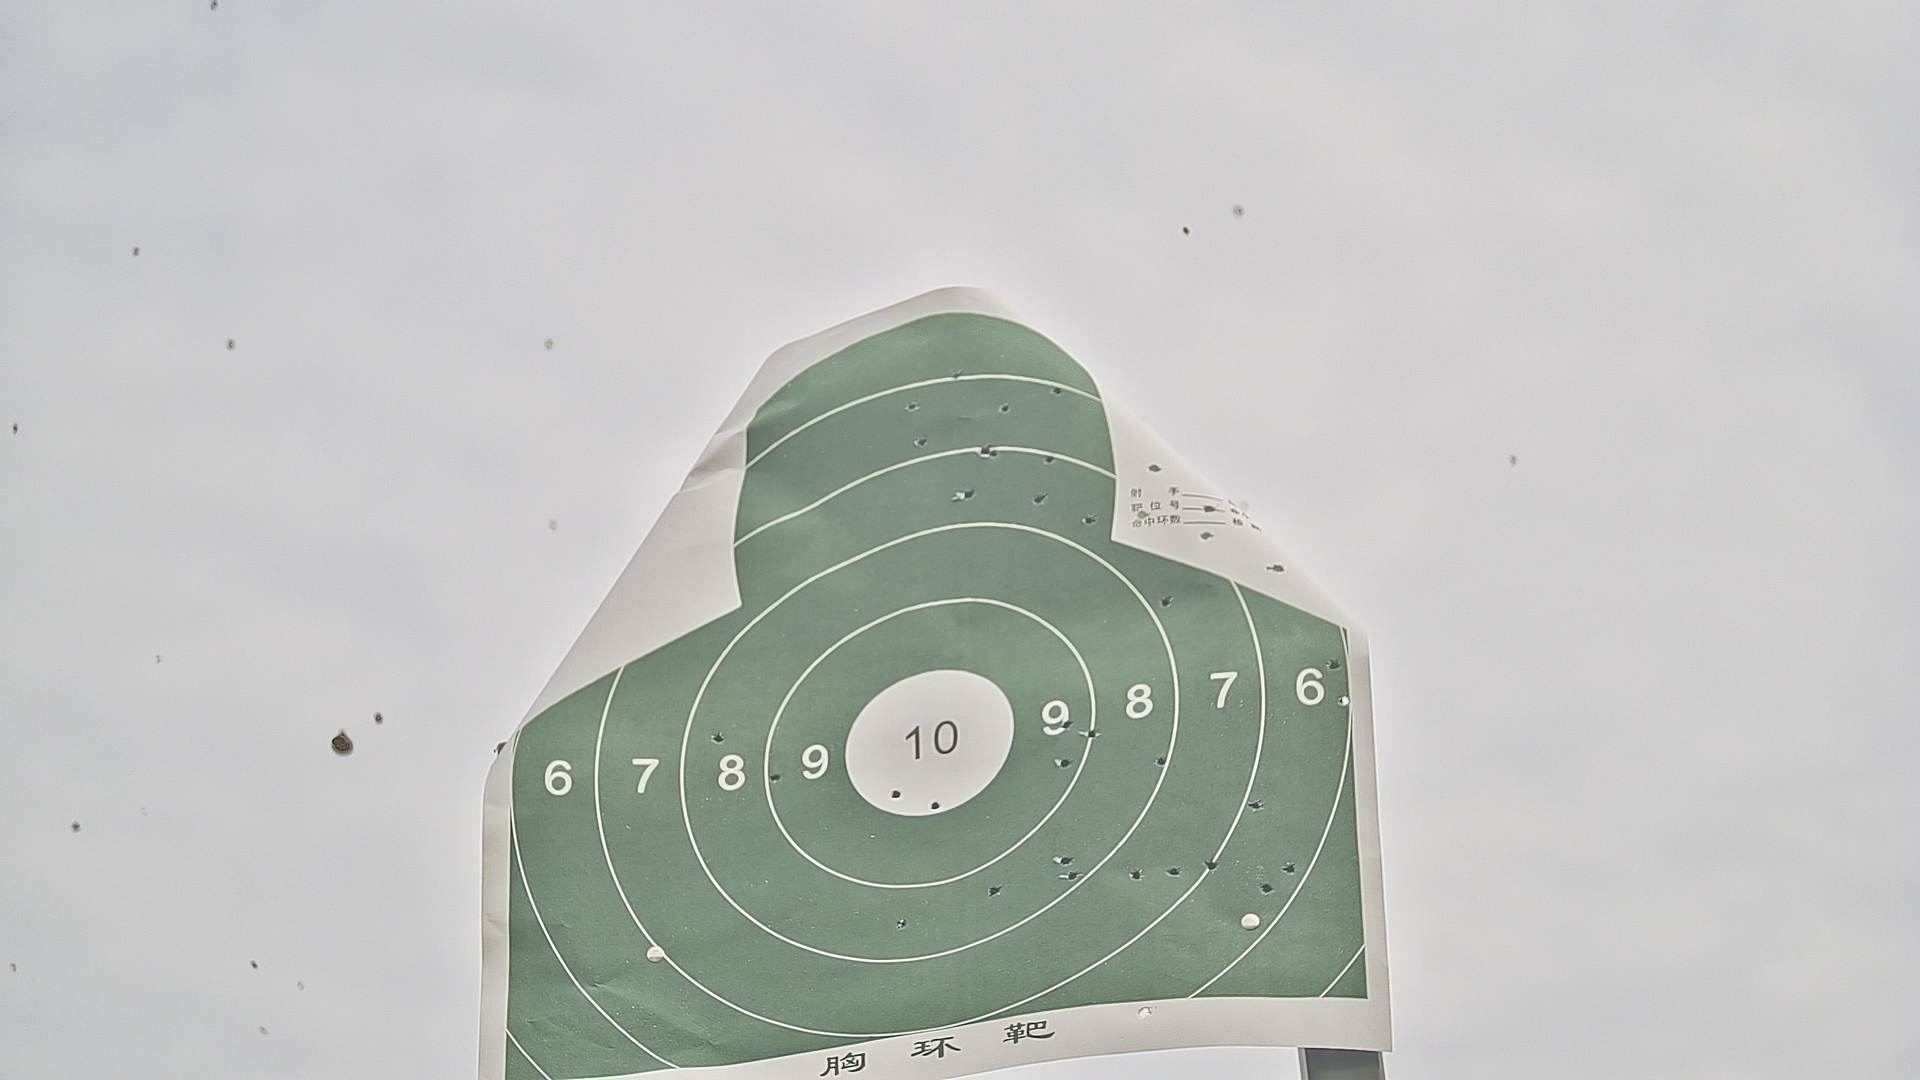hole: (1266, 563, 1284, 575), (986, 446, 1000, 460), (1327, 658, 1341, 671), (1138, 1004, 1154, 1015), (1284, 862, 1298, 876), (963, 488, 977, 500), (767, 771, 781, 783), (711, 732, 724, 744), (1147, 462, 1160, 473), (916, 436, 928, 448), (1033, 493, 1044, 505), (1087, 728, 1098, 740), (1058, 757, 1069, 769), (905, 401, 918, 411), (1249, 800, 1262, 811), (1262, 881, 1273, 894), (1135, 509, 1149, 520), (1201, 531, 1215, 542), (1059, 855, 1073, 864), (1083, 516, 1098, 524), (1131, 868, 1142, 880), (930, 799, 940, 811), (1162, 595, 1171, 608), (1207, 858, 1216, 872), (1201, 504, 1215, 513), (1338, 695, 1349, 705), (1062, 719, 1072, 729), (1067, 872, 1077, 882), (1168, 866, 1180, 876), (897, 915, 905, 928), (1000, 402, 1009, 413), (978, 444, 988, 455), (1044, 454, 1054, 464), (989, 885, 998, 895), (891, 789, 902, 798), (1156, 754, 1164, 766), (953, 371, 963, 378), (1052, 386, 1062, 394)
kernel: (924, 738, 932, 745)
target: (506, 316, 1366, 1080)
ten: (847, 667, 1017, 818)
